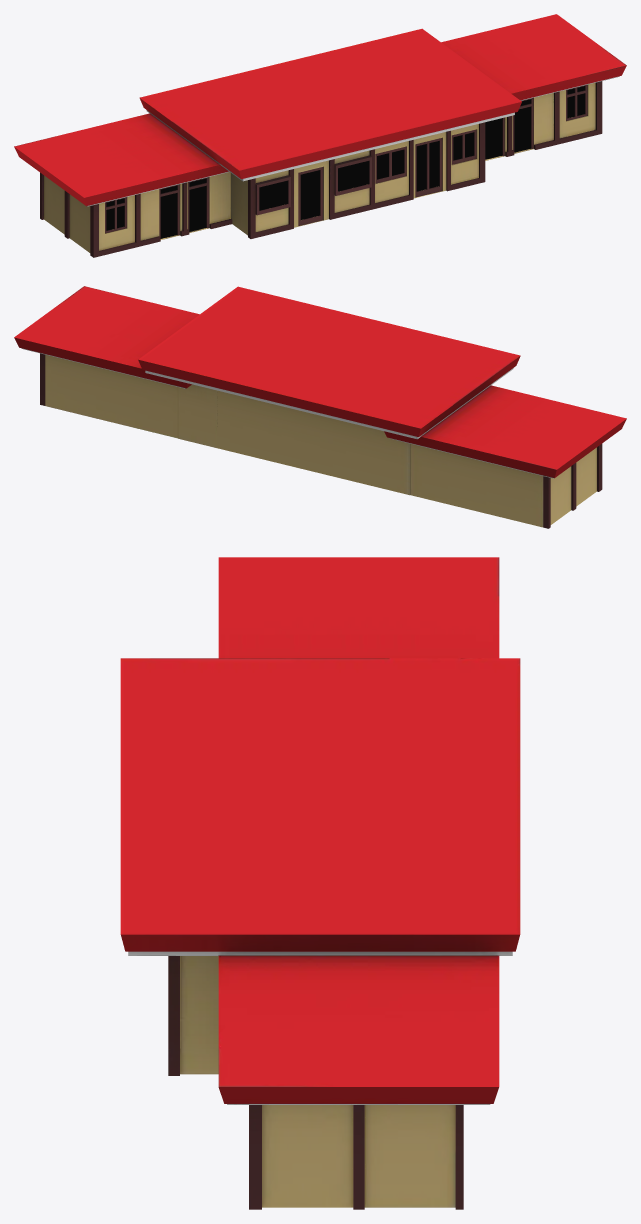
Rendered from kantorspbu1.glb.
3 renders of one model, top to bottom at view 1: azimuth 30°, elevation 25°; view 2: azimuth 150°, elevation 25°; view 3: azimuth 270°, elevation 25°, orthographic. The views are drawn at different scales.
Parts seen in each view (by area): view 1: Cube.002, Cube, Cube.006, Cube.004, Cube.005, Cube.003; view 2: Cube.002, Cube, Cube.003, Cube.004; view 3: Cube.002, Cube, Cube.004, Cube.003.
Part boxes in pixels (x1,y1,x2,y2): Cube.002: (14, 14, 626, 206); Cube: (44, 82, 595, 252); Cube.006: (106, 86, 584, 238); Cube.004: (40, 81, 602, 257); Cube.005: (105, 84, 587, 236); Cube.003: (87, 76, 619, 206); Cube.002: (14, 286, 626, 478); Cube: (45, 354, 596, 527); Cube.003: (21, 348, 553, 478); Cube.004: (40, 353, 602, 528); Cube.002: (120, 557, 520, 1103); Cube: (180, 956, 455, 1207); Cube.004: (168, 956, 463, 1209); Cube.003: (128, 951, 512, 1104).
Size of the model in its own units: 44.02 by 6.42 by 14.03.
Materials: 6 (5 with a texture image).
